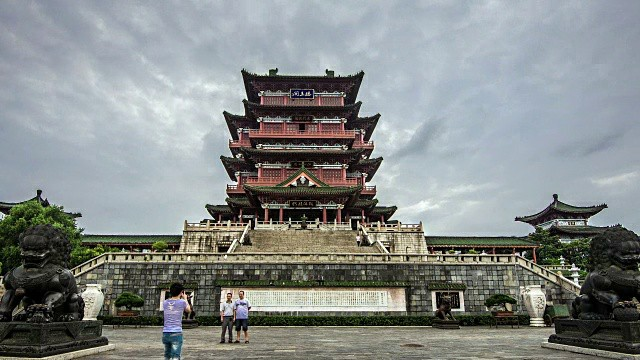Teng: (205, 68, 397, 224)
